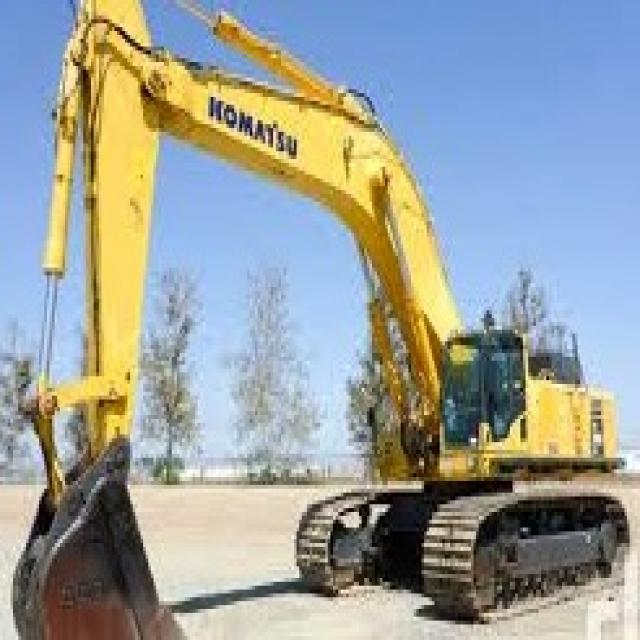excavator: (285, 303, 631, 608)
